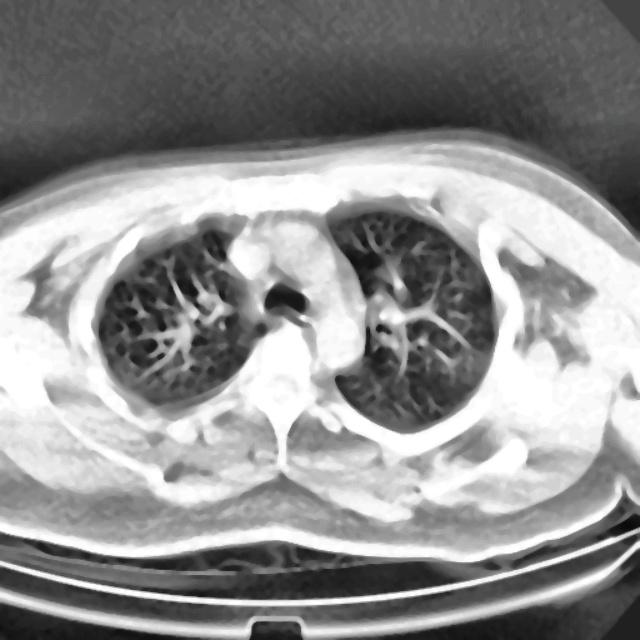covid: (0, 127, 639, 572)
